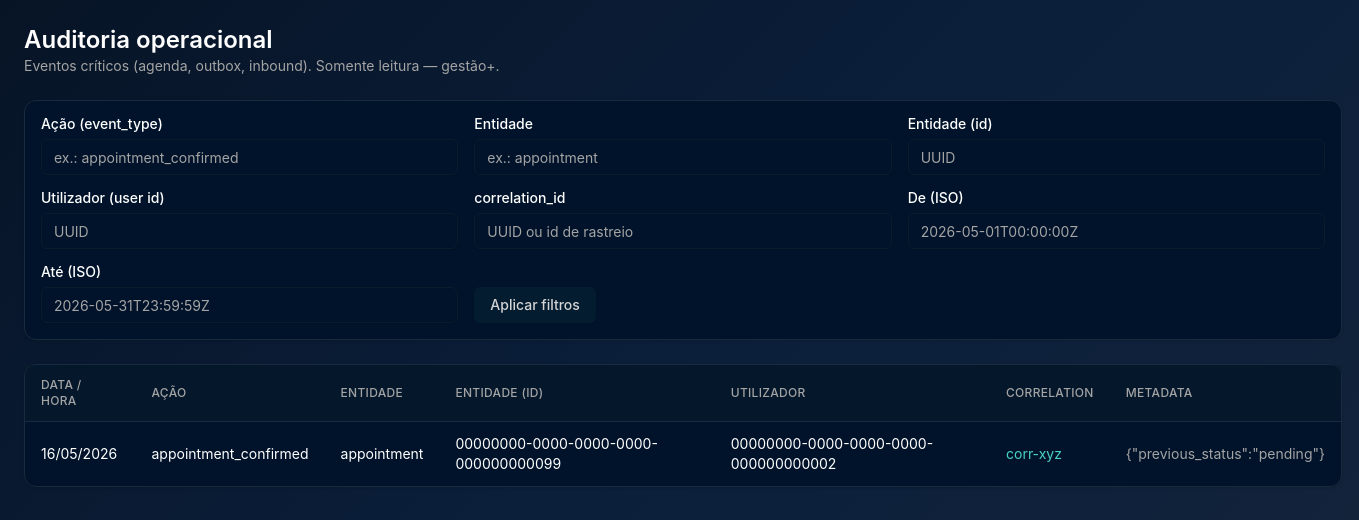
Test: OperationalAuditPage › hides stale table when refetch fails after prior success
Expected: the text "appointment_confirmed" is shown, [136,422,324,486]
Step 1. Click the button "Aplicar filtros" → (535, 305), box [474,287,596,323]
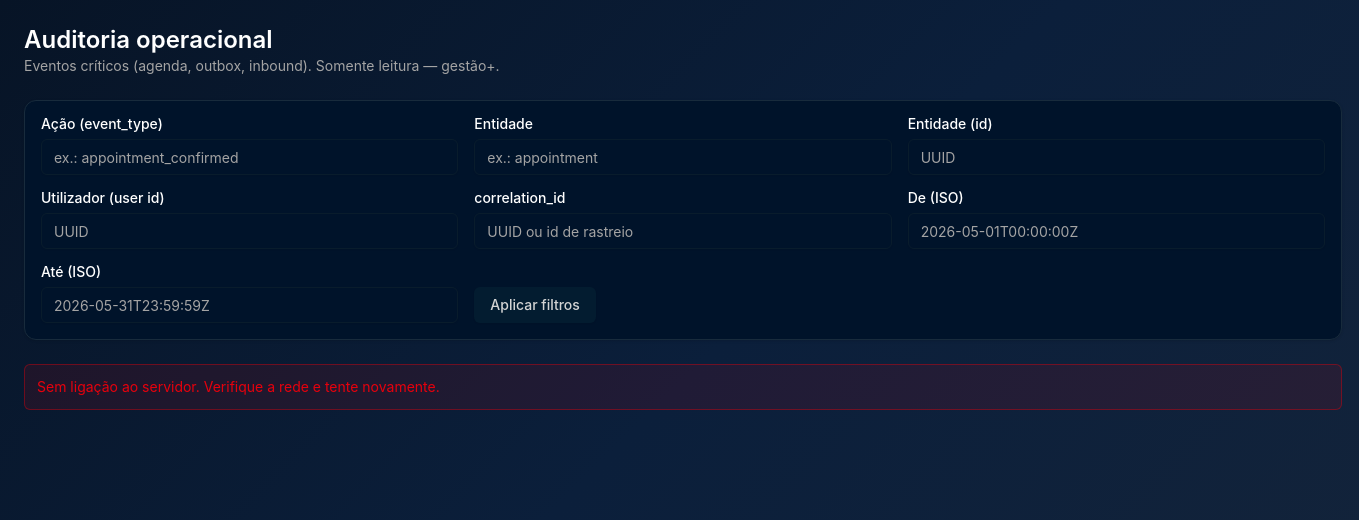
Result: the text "Sem ligação ao servidor. Verifique a rede e tente novamente." is shown at [24,364,1342,410]
Result: the element with test id "operational-audit-table" is gone
